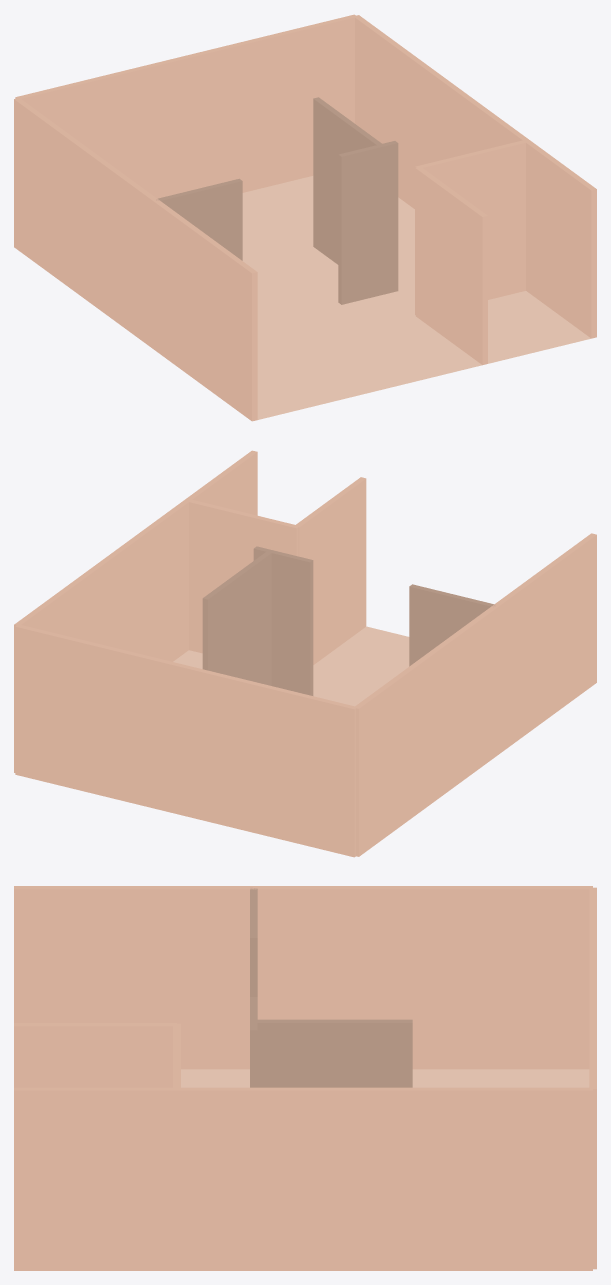
Rendered from SimpleDesign.glb.
The picture shows the model from 3 angles, top to bottom: view 1: azimuth 30°, elevation 25°; view 2: azimuth 150°, elevation 25°; view 3: azimuth 270°, elevation 25°; orthographic projection. The views are drawn at different scales.
Bounding box in the file's own units: 6.24 × 2.56 × 7.51.
